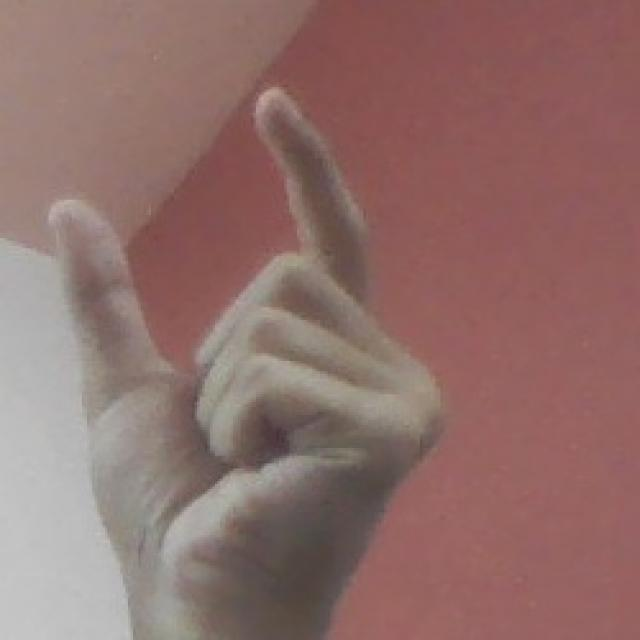Alphabet-U: (38, 66, 439, 640)
